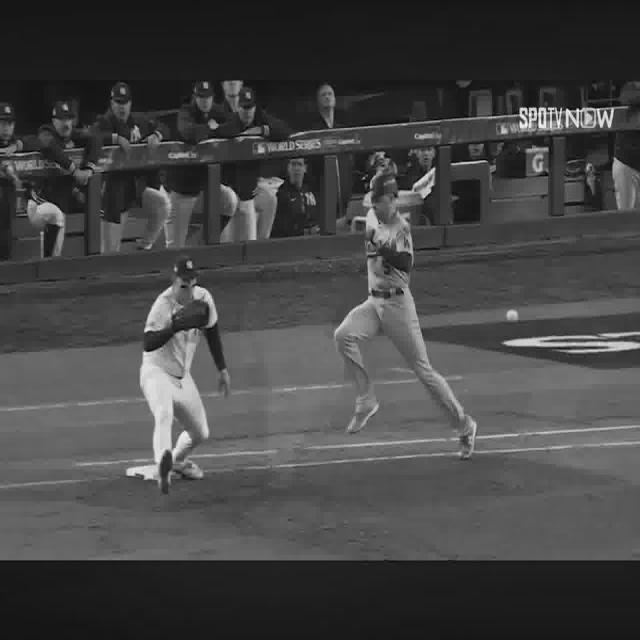base: (126, 465, 158, 480)
baseball: (506, 310, 518, 323)
baseball_glove: (171, 300, 209, 332)
shoe: (346, 393, 379, 433), (458, 418, 478, 460), (158, 450, 172, 495), (175, 464, 203, 478)
